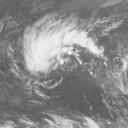cyclone: (24, 29, 61, 70)
